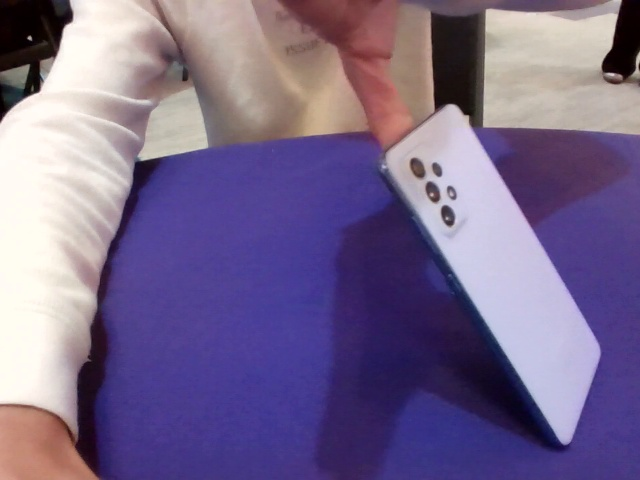celular: (373, 102, 604, 451)
